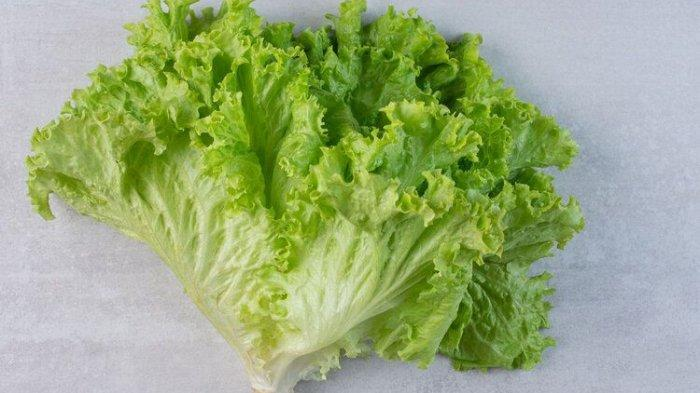buah_sayur_lainnya: (168, 46, 467, 273)
